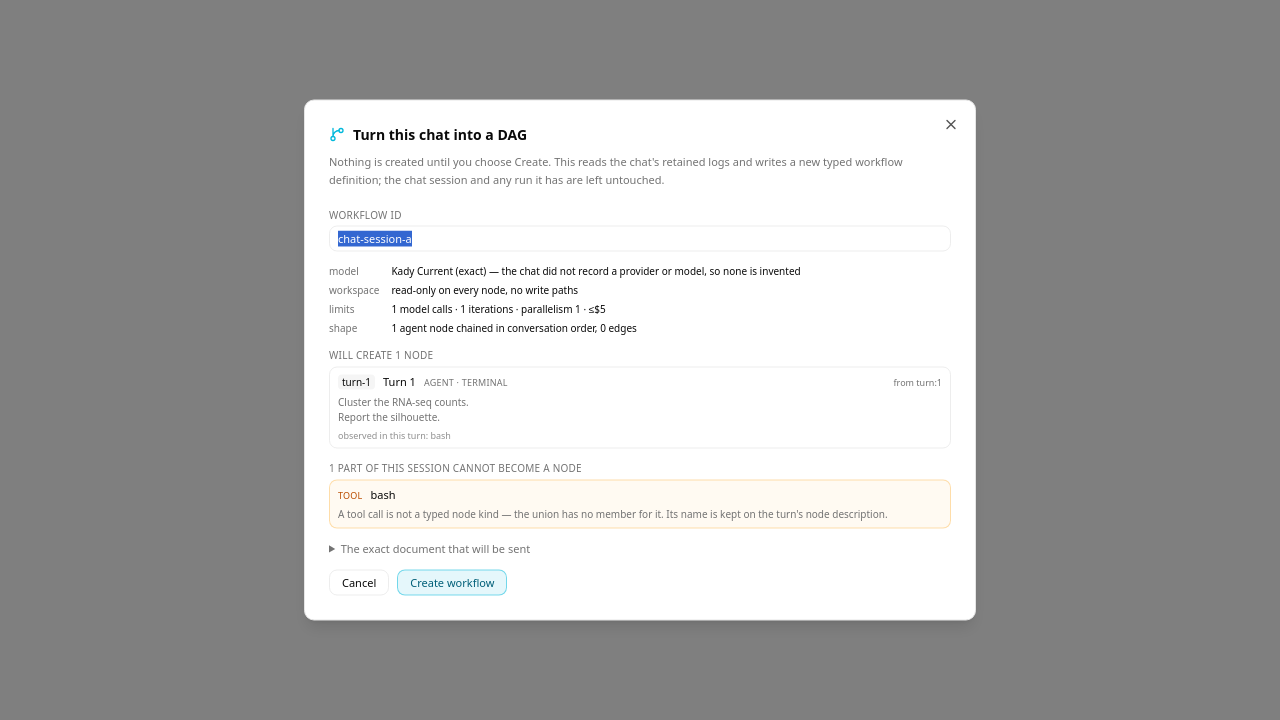
promote-to-DAG dialog › creates through the typed route's create precondition and reports what came back
This screenshot has width=1280, height=720.
Click the button "Create workflow" at (452, 582), box [397, 569, 507, 596]
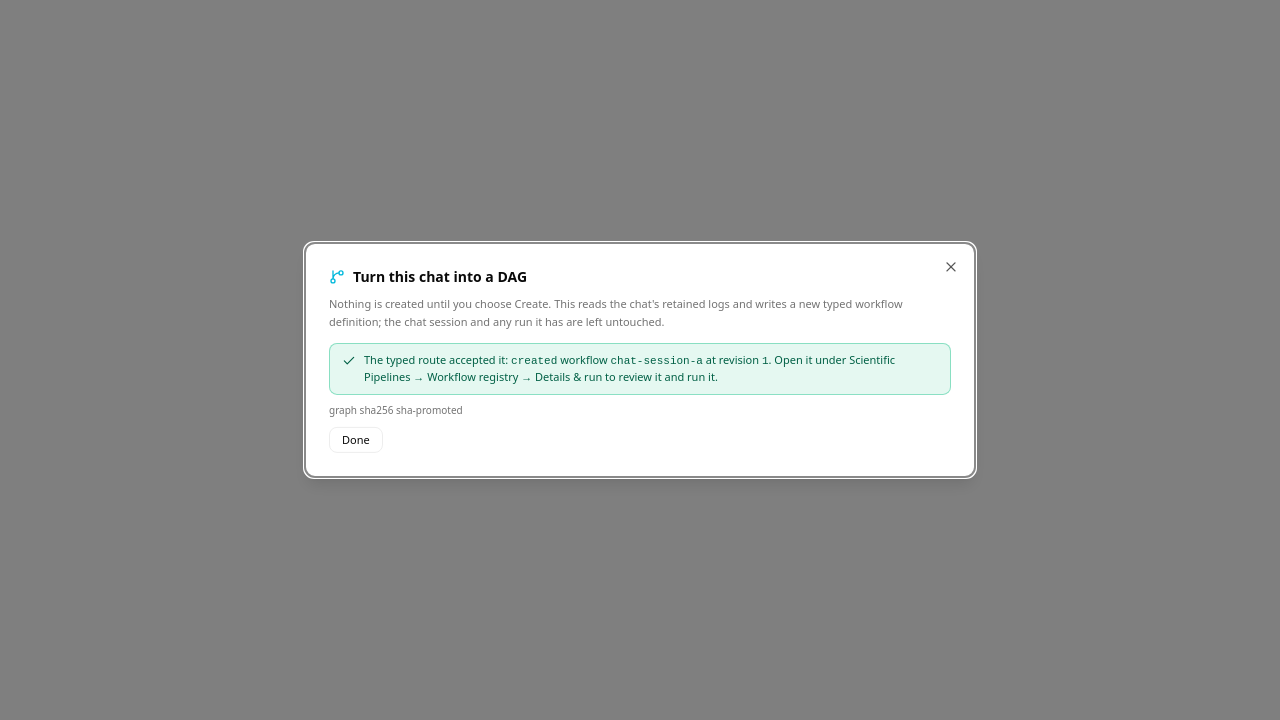
Expected: the text "chat-session-a" is shown, [610, 355, 703, 367]
Expected: the text "The typed route accepted it" is shown, [364, 352, 511, 367]
Expected: the text "graph sha256 sha-promoted" is shown, [329, 403, 463, 417]
